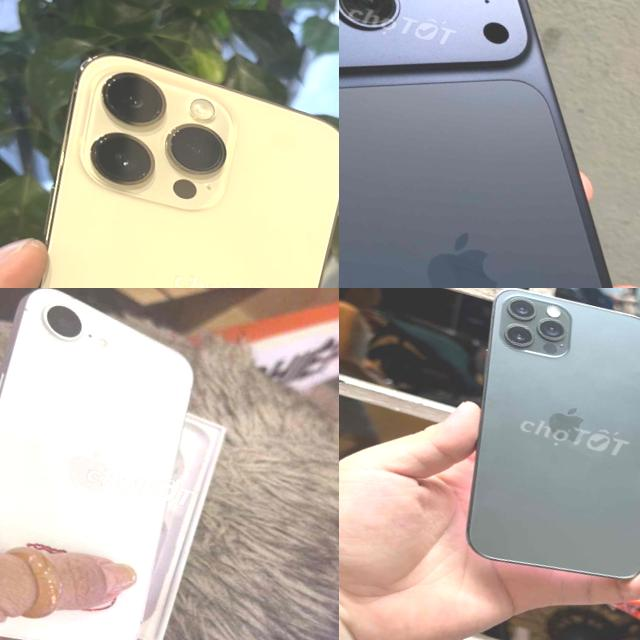gen_12_13: (427, 288, 640, 600)
gen_14: (0, 37, 339, 288)
gen_16: (0, 288, 192, 640)
gen_17: (339, 0, 640, 288)
